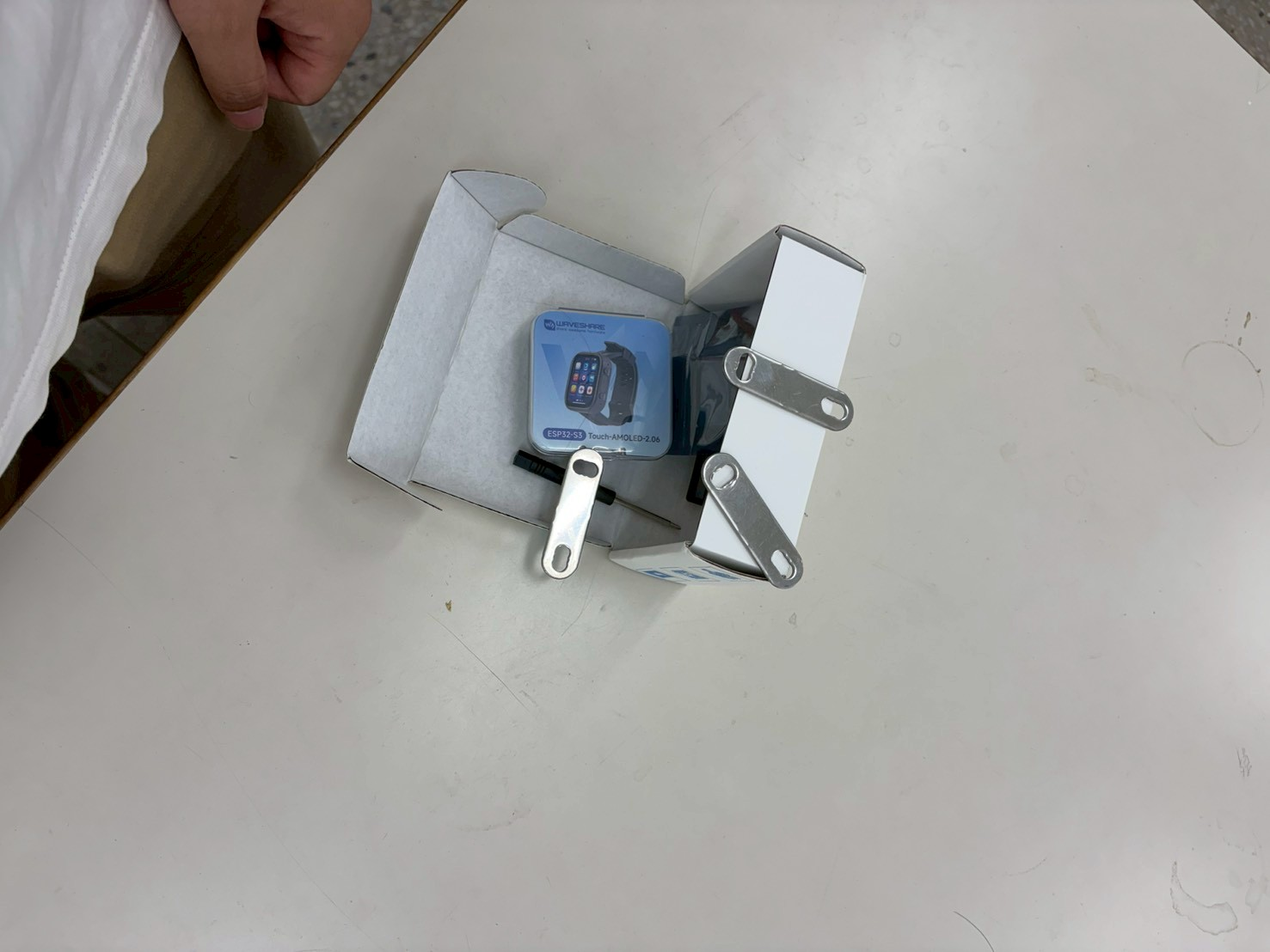Fe: (687, 452, 807, 593), (722, 342, 862, 429), (535, 443, 604, 571)
